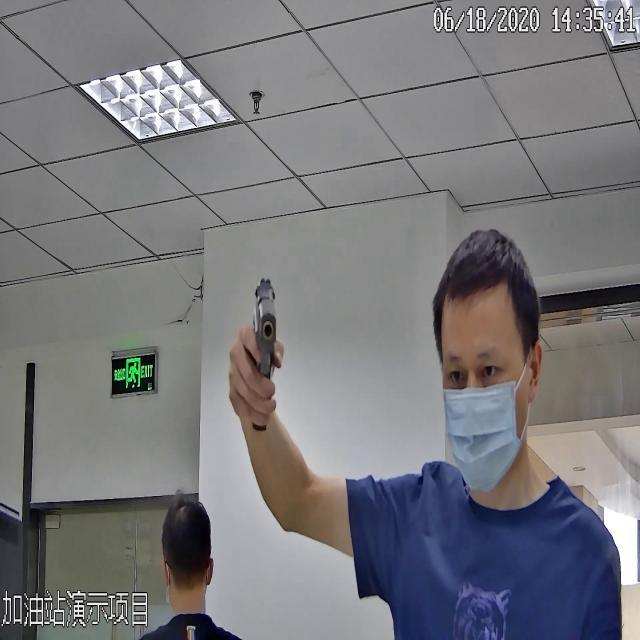gun-knife-thesis - v11 Yolov5 augmented: (243, 271, 288, 441)
